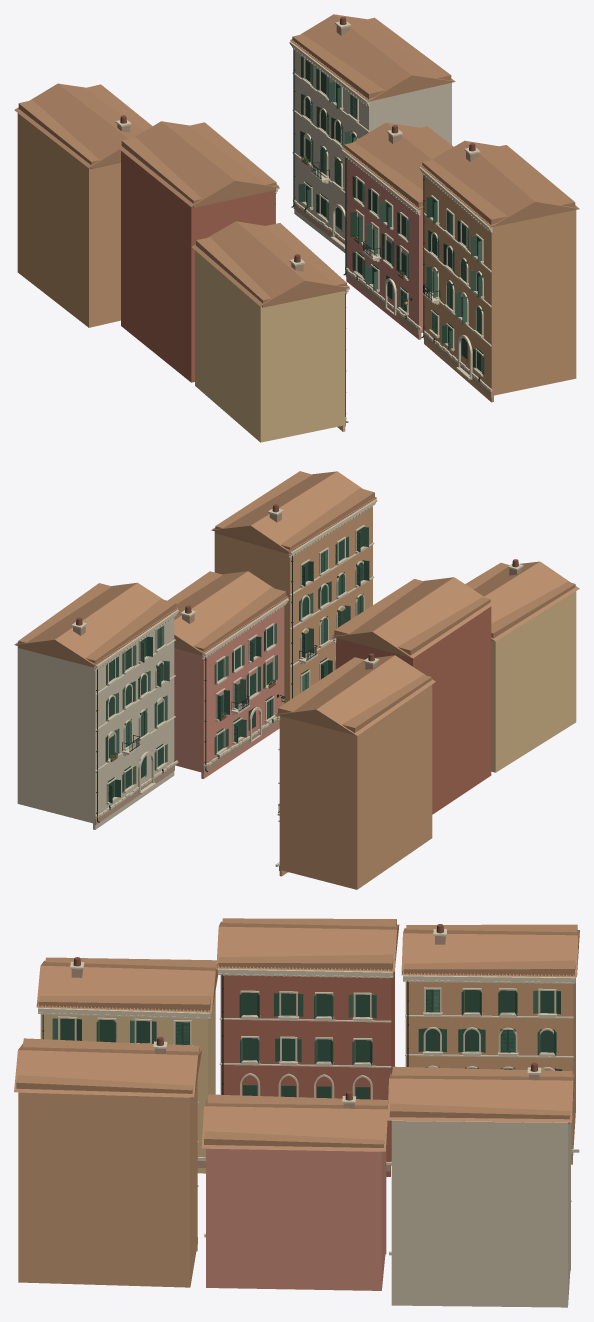
File: canal-08.glb
3 renders of one model, top to bottom at view 1: azimuth 30°, elevation 25°; view 2: azimuth 150°, elevation 25°; view 3: azimuth 270°, elevation 25°, orthographic. The views are drawn at different scales.
Visible parts, largest first — view 1: Main elevations / kit:roof, Main elevations / kit:walls:2, Distant elevations / kit:walls:0, Main elevations / kit:walls:0, Main elevations / kit:walls:4, Distant elevations / kit:roof, Main elevations / kit:stone, Distant elevations / kit:walls:3, Main elevations / kit:walls:3, Distant elevations / kit:walls:1, Main elevations / kit:green, Main elevations / kit:greenDark (+7 smaller); view 2: Main elevations / kit:roof, Main elevations / kit:walls:0, Distant elevations / kit:roof, Distant elevations / kit:walls:0, Distant elevations / kit:walls:3, Main elevations / kit:walls:4, Main elevations / kit:walls:2, Main elevations / kit:stone, Main elevations / kit:walls:3, Main elevations / kit:walls:1, Distant elevations / kit:walls:1, Main elevations / kit:green (+6 smaller); view 3: Main elevations / kit:roof, Main elevations / kit:walls:0, Main elevations / kit:walls:3, Main elevations / kit:walls:1, Distant elevations / kit:roof, Main elevations / kit:walls:4, Main elevations / kit:stone, Distant elevations / kit:walls:0, Distant elevations / kit:greenDark, Distant elevations / kit:walls:4, Main elevations / kit:greenDark, Distant elevations / kit:walls:2 (+4 smaller).
Boxes of the visible parts, x1,y1,x2,y2 form: Main elevations / kit:roof: (14, 14, 579, 306); Main elevations / kit:walls:2: (195, 250, 345, 442); Distant elevations / kit:walls:0: (91, 162, 559, 395); Main elevations / kit:walls:0: (17, 113, 576, 402); Main elevations / kit:walls:4: (121, 151, 274, 382); Distant elevations / kit:roof: (18, 17, 575, 307); Main elevations / kit:stone: (115, 21, 492, 419); Distant elevations / kit:walls:3: (300, 55, 449, 238); Main elevations / kit:walls:3: (294, 50, 451, 252); Distant elevations / kit:walls:1: (346, 157, 423, 332); Main elevations / kit:green: (301, 56, 481, 367); Main elevations / kit:greenDark: (298, 63, 484, 375); Main elevations / kit:roof: (14, 471, 579, 735); Main elevations / kit:walls:0: (214, 525, 432, 889); Distant elevations / kit:roof: (18, 471, 575, 732); Distant elevations / kit:walls:0: (217, 506, 372, 881); Distant elevations / kit:walls:3: (20, 617, 174, 823); Main elevations / kit:walls:4: (338, 606, 491, 814); Main elevations / kit:walls:2: (493, 591, 576, 772); Main elevations / kit:stone: (71, 499, 523, 866); Main elevations / kit:walls:3: (17, 622, 174, 829); Main elevations / kit:walls:1: (174, 616, 279, 778); Distant elevations / kit:walls:1: (201, 606, 284, 772); Main elevations / kit:green: (106, 527, 368, 784); Main elevations / kit:roof: (14, 921, 579, 1151); Main elevations / kit:walls:0: (18, 977, 575, 1287); Main elevations / kit:walls:3: (391, 1120, 570, 1307); Main elevations / kit:walls:1: (206, 1148, 386, 1290); Distant elevations / kit:roof: (16, 918, 577, 1152); Main elevations / kit:walls:4: (220, 971, 394, 1176); Main elevations / kit:stone: (38, 929, 579, 1255); Distant elevations / kit:walls:0: (190, 981, 574, 1284); Distant elevations / kit:greenDark: (60, 990, 554, 1099); Distant elevations / kit:walls:4: (242, 978, 390, 1169); Main elevations / kit:greenDark: (76, 989, 562, 1070); Distant elevations / kit:walls:2: (40, 993, 215, 1160).
Bounding box in the file's own units: 35.82 × 19.24 × 43.03.
